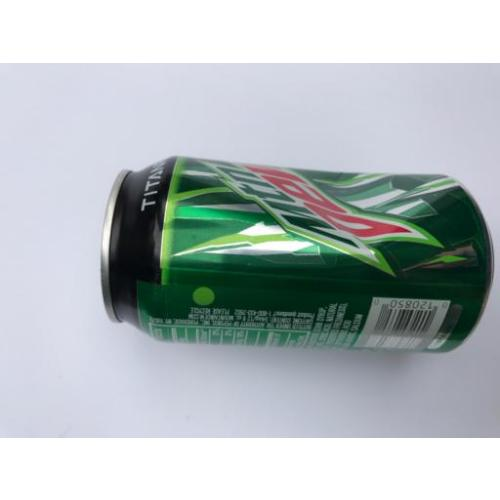metal: (102, 158, 492, 351)
